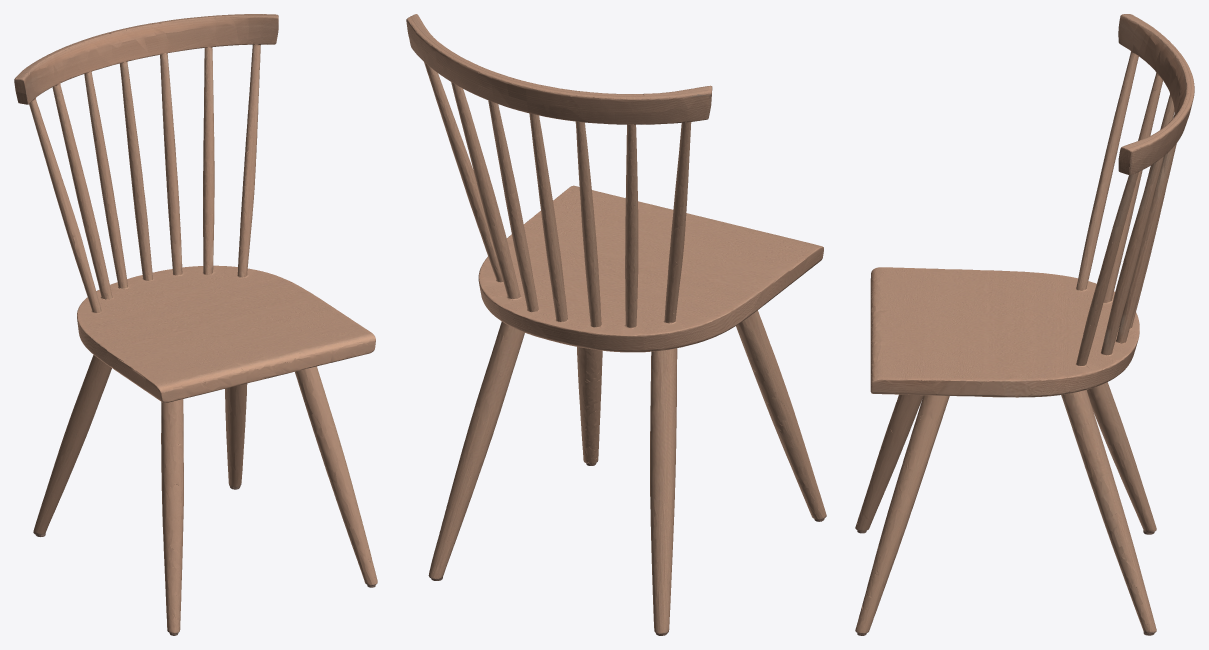
File: highback-windsor-chair.glb
The picture shows the model from 3 angles, left to right: view 1: azimuth 30°, elevation 25°; view 2: azimuth 150°, elevation 25°; view 3: azimuth 270°, elevation 25°; orthographic projection. The views are drawn at different scales.
Parts seen in each view (by area): view 1: mesh_node; view 2: mesh_node; view 3: mesh_node.
Part boxes in pixels (<box>): mesh_node: <box>14,14,377,635</box>; mesh_node: <box>406,14,826,635</box>; mesh_node: <box>855,14,1194,635</box>.
Bounding box in the file's own units: 1.11 × 1.9 × 1.16.
1 material, 1 textured.
